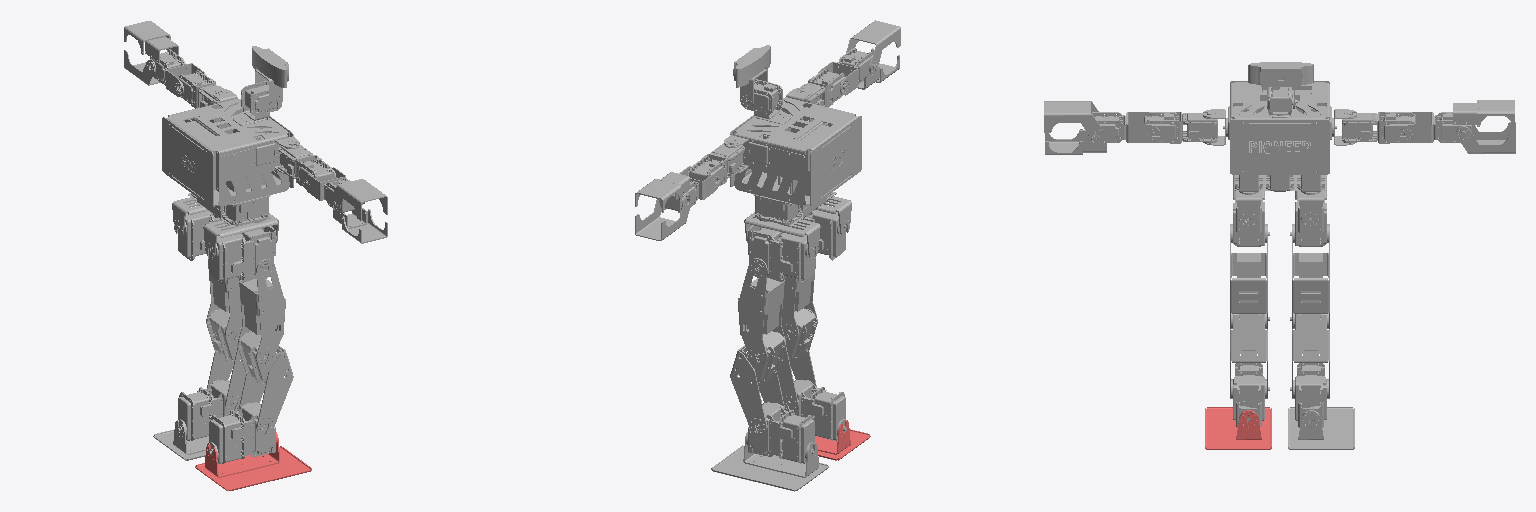
--- What the picture shows (computed from the rendered views, not written in the file) ---
3 views of the same robot in one strip: view 1: azimuth 30°, elevation 25°; view 2: azimuth 150°, elevation 25°; view 3: azimuth 270°, elevation 25° (orthographic).
Robot: pioneer3 — 24 links, 23 joints (23 revolute); root link base_link; default pose: every joint at zero.
Links seen in each view (by area): view 1: Body, RL_link3, RL_link4, RL_link6, RL_link5, RL_link2, LA_link3, LL_link4, LL_link5, RA_link3, Neck_link2, RA_link2 (+10 smaller); view 2: Body, LL_link3, LL_link4, LL_link6, LL_link5, LL_link2, RL_link4, RL_link5, LA_link3, RA_link3, Neck_link2, LA_link2 (+10 smaller); view 3: Body, LA_link3, RA_link3, RL_link6, LL_link6, RL_link3, LL_link3, RL_link4, LL_link4, RA_link2, LA_link2, RL_link5 (+10 smaller).
Link boxes in pixels (x1,y1,x2,y2): Body: [162, 98, 293, 207]; RL_link3: [238, 259, 285, 364]; RL_link4: [237, 331, 293, 434]; RL_link6: [195, 432, 311, 490]; RL_link5: [209, 402, 275, 463]; RL_link2: [209, 226, 275, 283]; LA_link3: [124, 21, 206, 96]; LL_link4: [206, 309, 245, 411]; LL_link5: [177, 380, 240, 440]; RA_link3: [303, 167, 387, 243]; Neck_link2: [252, 46, 288, 107]; RA_link2: [278, 144, 334, 187]; Body: [730, 97, 861, 206]; LL_link3: [738, 258, 785, 363]; LL_link4: [730, 331, 785, 434]; LL_link6: [711, 432, 828, 491]; LL_link5: [748, 402, 815, 463]; LL_link2: [748, 226, 815, 283]; RL_link4: [778, 308, 817, 411]; RL_link5: [783, 380, 846, 440]; LA_link3: [635, 166, 719, 213]; RA_link3: [818, 48, 899, 95]; Neck_link2: [733, 45, 770, 107]; LA_link2: [689, 143, 744, 185]; Body: [1223, 81, 1336, 174]; LA_link3: [1400, 100, 1514, 142]; RA_link3: [1045, 112, 1159, 154]; RL_link6: [1205, 407, 1271, 449]; LL_link6: [1288, 407, 1354, 449]; RL_link3: [1230, 224, 1267, 328]; LL_link3: [1292, 224, 1329, 328]; RL_link4: [1230, 313, 1269, 398]; LL_link4: [1290, 313, 1329, 398]; RA_link2: [1144, 112, 1217, 143]; LA_link2: [1342, 112, 1415, 143]; RL_link5: [1233, 363, 1269, 427].
Size in the robot's own frame: 0.1515 by 0.6817 by 0.6124 metres.
24 mesh visuals loaded from 24 distinct referenced files (24 binary STL).

URDF robot description (pioneer3):
<?xml version="1.0" encoding="utf-8"?>
<!-- This URDF was automatically created by SolidWorks to URDF Exporter! Originally created by Stephen Brawner ([email redacted]) 
     Commit Version: 1.6.0-4-g7f85cfe  Build Version: 1.6.7995.38578
     For more information, please see http://wiki.ros.org/sw_urdf_exporter -->
<robot
  name="pioneer3">
  <link
    name="base_link">
    <inertial>
      <origin
        xyz="-0.0167250968827815 2.44149145345318E-10 0.0203639204176536"
        rpy="0 0 0" />
      <mass
        value="0.240383168658405" />
      <inertia
        ixx="7.83804120751113E-05"
        ixy="-1.33677467927533E-12"
        ixz="8.81205594526933E-07"
        iyy="0.000100074084783745"
        iyz="-7.20459622056662E-10"
        izz="0.000112287656365948" />
    </inertial>
    <visual>
      <origin
        xyz="0 0 0"
        rpy="0 0 0" />
      <geometry>
        <mesh
          filename="package://pioneer3/meshes/base_link.STL" />
      </geometry>
      <material
        name="">
        <color
          rgba="0.752941176470588 0.752941176470588 0.752941176470588 1" />
      </material>
    </visual>
    <collision>
      <origin
        xyz="0 0 0"
        rpy="0 0 0" />
      <geometry>
        <mesh
          filename="package://pioneer3/meshes/base_link.STL" />
      </geometry>
    </collision>
  </link>
  <link
    name="Body">
    <inertial>
      <origin
        xyz="-0.0193898149026809 0.00222591592015722 0.0444172391413023"
        rpy="0 0 0" />
      <mass
        value="0.774724923242869" />
      <inertia
        ixx="0.000896603730400152"
        ixy="-1.88519887603303E-05"
        ixz="-7.16736744399087E-06"
        iyy="0.000619545768203177"
        iyz="-2.23556455740887E-05"
        izz="0.00107921959387707" />
    </inertial>
    <visual>
      <origin
        xyz="0 0 0"
        rpy="0 0 0" />
      <geometry>
        <mesh
          filename="package://pioneer3/meshes/Body.STL" />
      </geometry>
      <material
        name="">
        <color
          rgba="0.752941176470588 0.752941176470588 0.752941176470588 1" />
      </material>
    </visual>
    <collision>
      <origin
        xyz="0 0 0"
        rpy="0 0 0" />
      <geometry>
        <mesh
          filename="package://pioneer3/meshes/Body.STL" />
      </geometry>
    </collision>
  </link>
  <joint
    name="bodyj"
    type="revolute">
    <origin
      xyz="0 0 0.044"
      rpy="0 0 0" />
    <parent
      link="base_link" />
    <child
      link="Body" />
    <axis
      xyz="0 0 1" />
    <limit
      lower="-3.14"
      upper="3.14"
      effort="1000"
      velocity="1000" />
  </joint>
  <link
    name="RA_link1">
    <inertial>
      <origin
        xyz="-7.50000634615923E-05 0.000401188760507487 0.00834166838443349"
        rpy="0 0 0" />
      <mass
        value="0.0115476492286881" />
      <inertia
        ixx="4.12065404335022E-06"
        ixy="-1.56945908739664E-13"
        ixz="-2.3697766161428E-13"
        iyy="1.60398828094646E-06"
        iyz="1.57011245213886E-13"
        izz="4.07101891575568E-06" />
    </inertial>
    <visual>
      <origin
        xyz="0 0 0"
        rpy="0 0 0" />
      <geometry>
        <mesh
          filename="package://pioneer3/meshes/RA_link1.STL" />
      </geometry>
      <material
        name="">
        <color
          rgba="0.752941176470588 0.752941176470588 0.752941176470588 1" />
      </material>
    </visual>
    <collision>
      <origin
        xyz="0 0 0"
        rpy="0 0 0" />
      <geometry>
        <mesh
          filename="package://pioneer3/meshes/RA_link1.STL" />
      </geometry>
    </collision>
  </link>
  <joint
    name="RA_j1"
    type="revolute">
    <origin
      xyz="0.025552 -0.0798 0.065679"
      rpy="1.5708 0 0" />
    <parent
      link="Body" />
    <child
      link="RA_link1" />
    <axis
      xyz="0 0 1" />
    <limit
      lower="-3.14"
      upper="3.14"
      effort="1000"
      velocity="1000" />
  </joint>
<!-- <link name="world"/>
  <joint name="fixed" type="fixed">
  <origin xyz="0 0 1" rpy="0 0 0"/>
    <parent link="world"/>
    <child link="base_link"/>
  </joint> -->
  <link
    name="RA_link2">
    <inertial>
      <origin
        xyz="0.0415895478990663 8.9087516866166E-05 1.4087516855707E-05"
        rpy="0 0 0" />
      <mass
        value="0.0976313045710125" />
      <inertia
        ixx="1.77003872433829E-05"
        ixy="1.82744192429706E-07"
        ixz="-1.82744192428845E-07"
        iyy="2.40642398269195E-05"
        iyz="8.2844861802451E-13"
        izz="2.39715332723679E-05" />
    </inertial>
    <visual>
      <origin
        xyz="0 0 0"
        rpy="0 0 0" />
      <geometry>
        <mesh
          filename="package://pioneer3/meshes/RA_link2.STL" />
      </geometry>
      <material
        name="">
        <color
          rgba="0.752941176470588 0.752941176470588 0.752941176470588 1" />
      </material>
    </visual>
    <collision>
      <origin
        xyz="0 0 0"
        rpy="0 0 0" />
      <geometry>
        <mesh
          filename="package://pioneer3/meshes/RA_link2.STL" />
      </geometry>
    </collision>
  </link>
  <joint
    name="RA_j2"
    type="revolute">
    <origin
      xyz="0 0 0.021282"
      rpy="1.5708 -1.5708 0" />
    <parent
      link="RA_link1" />
    <child
      link="RA_link2" />
    <axis
      xyz="0 0 -1" />
    <limit
      lower="-3.14"
      upper="3.14"
      effort="1000"
      velocity="1000" />
  </joint>
  <link
    name="RA_link3">
    <inertial>
      <origin
        xyz="0.0740596286038509 0.00988456500166742 8.47100684984135E-05"
        rpy="0 0 0" />
      <mass
        value="0.0970495897686328" />
      <inertia
        ixx="2.25127869893031E-05"
        ixy="-3.71122412867642E-08"
        ixz="1.82723660580053E-07"
        iyy="3.48264767703425E-05"
        iyz="-5.6566102245087E-13"
        izz="2.2513245712724E-05" />
    </inertial>
    <visual>
      <origin
        xyz="0 0 0"
        rpy="0 0 0" />
      <geometry>
        <mesh
          filename="package://pioneer3/meshes/RA_link3.STL" />
      </geometry>
      <material
        name="">
        <color
          rgba="0.752941176470588 0.752941176470588 0.752941176470588 1" />
      </material>
    </visual>
    <collision>
      <origin
        xyz="0 0 0"
        rpy="0 0 0" />
      <geometry>
        <mesh
          filename="package://pioneer3/meshes/RA_link3.STL" />
      </geometry>
    </collision>
  </link>
  <joint
    name="RA_j3"
    type="revolute">
    <origin
      xyz="0.083008 0 0"
      rpy="1.5708 0 0" />
    <parent
      link="RA_link2" />
    <child
      link="RA_link3" />
    <axis
      xyz="0 0 -1" />
    <limit
      lower="-3.14"
      upper="3.14"
      effort="1000"
      velocity="1000" />
  </joint>
  <link
    name="RA_link4">
    <inertial>
      <origin
        xyz="0.035114468974555 -0.0230460225520937 -0.0015332532138342"
        rpy="0 0 0" />
      <mass
        value="0.0258491749290588" />
      <inertia
        ixx="1.04022877238367E-05"
        ixy="1.9672117898398E-06"
        ixz="-8.44967793224537E-13"
        iyy="2.21552310040836E-05"
        iyz="2.2182555808158E-12"
        izz="1.66621056690838E-05" />
    </inertial>
    <visual>
      <origin
        xyz="0 0 0"
        rpy="0 0 0" />
      <geometry>
        <mesh
          filename="package://pioneer3/meshes/RA_link4.STL" />
      </geometry>
      <material
        name="">
        <color
          rgba="0.752941176470588 0.752941176470588 0.752941176470588 1" />
      </material>
    </visual>
    <collision>
      <origin
        xyz="0 0 0"
        rpy="0 0 0" />
      <geometry>
        <mesh
          filename="package://pioneer3/meshes/RA_link4.STL" />
      </geometry>
    </collision>
  </link>
  <joint
    name="RA_j4"
    type="revolute">
    <origin
      xyz="0.081772 0 0"
      rpy="0 0 0" />
    <parent
      link="RA_link3" />
    <child
      link="RA_link4" />
    <axis
      xyz="0 0 1" />
    <limit
      lower="-3.14"
      upper="3.14"
      effort="1000"
      velocity="1000" />
  </joint>
  <link
    name="LA_link1">
    <inertial>
      <origin
        xyz="-7.49999366664936E-05 -0.000401188760507723 0.00834166838443265"
        rpy="0 0 0" />
      <mass
        value="0.011547649228688" />
      <inertia
        ixx="4.12065404335021E-06"
        ixy="-1.56945911592939E-13"
        ixz="2.36977660319132E-13"
        iyy="1.60398828094644E-06"
        iyz="-1.57011424829553E-13"
        izz="4.07101891575567E-06" />
    </inertial>
    <visual>
      <origin
        xyz="0 0 0"
        rpy="0 0 0" />
      <geometry>
        <mesh
          filename="package://pioneer3/meshes/LA_link1.STL" />
      </geometry>
      <material
        name="">
        <color
          rgba="0.752941176470588 0.752941176470588 0.752941176470588 1" />
      </material>
    </visual>
    <collision>
      <origin
        xyz="0 0 0"
        rpy="0 0 0" />
      <geometry>
        <mesh
          filename="package://pioneer3/meshes/LA_link1.STL" />
      </geometry>
    </collision>
  </link>
  <joint
    name="LA_j1"
    type="revolute">
    <origin
      xyz="0.025552 0.0798 0.065679"
      rpy="-1.5708 0 0" />
    <parent
      link="Body" />
    <child
      link="LA_link1" />
    <axis
      xyz="0 0 1" />
    <limit
      lower="-3.14"
      upper="3.14"
      effort="1000"
      velocity="1000" />
  </joint>
  <link
    name="LA_link2">
    <inertial>
      <origin
        xyz="-8.90881371993224E-05 0.0415895478998911 -1.4088137134563E-05"
        rpy="0 0 0" />
      <mass
        value="0.0976313045710133" />
      <inertia
        ixx="2.40642398269196E-05"
        ixy="-1.82745975027851E-07"
        ixz="-8.28448794189772E-13"
        iyy="1.7700387243383E-05"
        iyz="1.82745975027846E-07"
        izz="2.3971533272368E-05" />
    </inertial>
    <visual>
      <origin
        xyz="0 0 0"
        rpy="0 0 0" />
      <geometry>
        <mesh
          filename="package://pioneer3/meshes/LA_link2.STL" />
      </geometry>
      <material
        name="">
        <color
          rgba="0.752941176470588 0.752941176470588 0.752941176470588 1" />
      </material>
    </visual>
    <collision>
      <origin
        xyz="0 0 0"
        rpy="0 0 0" />
      <geometry>
        <mesh
          filename="package://pioneer3/meshes/LA_link2.STL" />
      </geometry>
    </collision>
  </link>
  <joint
    name="LA_j2"
    type="revolute">
    <origin
      xyz="0 0 0.021282"
      rpy="1.5708 0 0" />
    <parent
      link="LA_link1" />
    <child
      link="LA_link2" />
    <axis
      xyz="0 0 1" />
    <limit
      lower="-3.14"
      upper="3.14"
      effort="1000"
      velocity="1000" />
  </joint>
  <link
    name="LA_link3">
    <inertial>
      <origin
        xyz="0.0740124434762964 0.00995100438307307 -2.10717138973901E-05"
        rpy="0 0 0" />
      <mass
        value="0.0964594668522865" />
      <inertia
        ixx="2.24913417456753E-05"
        ixy="-3.71046689039174E-08"
        ixz="-1.82766501654953E-07"
        iyy="3.48050314951755E-05"
        iyz="-2.66624535931702E-13"
        izz="2.24708995283987E-05" />
    </inertial>
    <visual>
      <origin
        xyz="0 0 0"
        rpy="0 0 0" />
      <geometry>
        <mesh
          filename="package://pioneer3/meshes/LA_link3.STL" />
      </geometry>
      <material
        name="">
        <color
          rgba="0.752941176470588 0.752941176470588 0.752941176470588 1" />
      </material>
    </visual>
    <collision>
      <origin
        xyz="0 0 0"
        rpy="0 0 0" />
      <geometry>
        <mesh
          filename="package://pioneer3/meshes/LA_link3.STL" />
      </geometry>
    </collision>
  </link>
  <joint
    name="LA_j3"
    type="revolute">
    <origin
      xyz="0 0.083008 0"
      rpy="1.5708 0 1.5708" />
    <parent
      link="LA_link2" />
    <child
      link="LA_link3" />
    <axis
      xyz="0 0 1" />
    <limit
      lower="-3.14"
      upper="3.14"
      effort="1000"
      velocity="1000" />
  </joint>
  <link
    name="LA_link4">
    <inertial>
      <origin
        xyz="0.034330717191581 -0.0225316372474616 0.000152669856721209"
        rpy="0 0 0" />
      <mass
        value="0.0264392978454057" />
      <inertia
        ixx="1.04237331647152E-05"
        ixy="1.96721170536246E-06"
        ixz="-6.1192989763702E-13"
        iyy="2.21766760819998E-05"
        iyz="1.85273220406346E-12"
        izz="1.67044518534091E-05" />
    </inertial>
    <visual>
      <origin
        xyz="0 0 0"
        rpy="0 0 0" />
      <geometry>
        <mesh
          filename="package://pioneer3/meshes/LA_link4.STL" />
      </geometry>
      <material
        name="">
        <color
          rgba="0.752941176470588 0.752941176470588 0.752941176470588 1" />
      </material>
    </visual>
    <collision>
      <origin
        xyz="0 0 0"
        rpy="0 0 0" />
      <geometry>
        <mesh
          filename="package://pioneer3/meshes/LA_link4.STL" />
      </geometry>
    </collision>
  </link>
  <joint
    name="LA_j4"
    type="revolute">
    <origin
      xyz="0.081772 0 0"
      rpy="0 0 0" />
    <parent
      link="LA_link3" />
    <child
      link="LA_link4" />
    <axis
      xyz="0 0 1" />
    <limit
      lower="-3.14"
      upper="3.14"
      effort="1000"
      velocity="1000" />
  </joint>
  <link
    name="Neck_link1">
    <inertial>
      <origin
        xyz="0.00881675534498029 0.000424008175824692 0.0228543084913687"
        rpy="0 0 0" />
      <mass
        value="0.0489221422171348" />
      <inertia
        ixx="8.66202106821969E-06"
        ixy="-3.93419641724233E-07"
        ixz="-3.92119436105372E-08"
        iyy="1.07474815292861E-05"
        iyz="-8.93194087043012E-09"
        izz="1.36374535657454E-05" />
    </inertial>
    <visual>
      <origin
        xyz="0 0 0"
        rpy="0 0 0" />
      <geometry>
        <mesh
          filename="package://pioneer3/meshes/Neck_link1.STL" />
      </geometry>
      <material
        name="">
        <color
          rgba="0.752941176470588 0.752941176470588 0.752941176470588 1" />
      </material>
    </visual>
    <collision>
      <origin
        xyz="0 0 0"
        rpy="0 0 0" />
      <geometry>
        <mesh
          filename="package://pioneer3/meshes/Neck_link1.STL" />
      </geometry>
    </collision>
  </link>
  <joint
    name="Neckj1"
    type="revolute">
    <origin
      xyz="0.026477 3E-05 0.092"
      rpy="0 0 0" />
    <parent
      link="Body" />
    <child
      link="Neck_link1" />
    <axis
      xyz="0 0 1" />
    <limit
      lower="-3.14"
      upper="3.14"
      effort="1000"
      velocity="1000" />
  </joint>
  <link
    name="Neck_link2">
    <inertial>
      <origin
        xyz="0.00324207240321625 0.0421870933743638 -0.00127094299226047"
        rpy="0 0 0" />
      <mass
        value="0.0562977374530262" />
      <inertia
        ixx="3.28578623414443E-05"
        ixy="1.70000019824115E-07"
        ixz="2.39350621572202E-09"
        iyy="3.04793083290288E-05"
        iyz="-4.02027223183294E-10"
        izz="7.04385739529729E-06" />
    </inertial>
    <visual>
      <origin
        xyz="0 0 0"
        rpy="0 0 0" />
      <geometry>
        <mesh
          filename="package://pioneer3/meshes/Neck_link2.STL" />
      </geometry>
      <material
        name="">
        <color
          rgba="0.752941176470588 0.752941176470588 0.752941176470588 1" />
      </material>
    </visual>
    <collision>
      <origin
        xyz="0 0 0"
        rpy="0 0 0" />
      <geometry>
        <mesh
          filename="package://pioneer3/meshes/Neck_link2.STL" />
      </geometry>
    </collision>
  </link>
  <joint
    name="Neck_j2"
    type="revolute">
    <origin
      xyz="0.020822 0.00019107 0.02512"
      rpy="1.5708 0 0" />
    <parent
      link="Neck_link1" />
    <child
      link="Neck_link2" />
    <axis
      xyz="0 0 -1" />
    <limit
      lower="-3.14"
      upper="3.14"
      effort="1000"
      velocity="1000" />
  </joint>
  <link
    name="RL_link1">
    <inertial>
      <origin
        xyz="6.42169055084518E-09 -0.0219307811560503 -0.0108112966258257"
        rpy="0 0 0" />
      <mass
        value="0.0361632382405996" />
      <inertia
        ixx="5.41116951752787E-05"
        ixy="-3.12815448631409E-12"
        ixz="5.78182245260303E-14"
        iyy="9.66378632488254E-06"
        iyz="-1.97545977189402E-07"
        izz="5.66457480929963E-05" />
    </inertial>
    <visual>
      <origin
        xyz="0 0 0"
        rpy="0 0 0" />
      <geometry>
        <mesh
          filename="package://pioneer3/meshes/RL_link1.STL" />
      </geometry>
      <material
        name="">
        <color
          rgba="0.752941176470588 0.752941176470588 0.752941176470588 1" />
      </material>
    </visual>
    <collision>
      <origin
        xyz="0 0 0"
        rpy="0 0 0" />
      <geometry>
        <mesh
          filename="package://pioneer3/meshes/RL_link1.STL" />
      </geometry>
    </collision>
  </link>
  <joint
    name="RL_j1"
    type="revolute">
    <origin
      xyz="0 -0.045 0"
      rpy="0 0 -1.5708" />
    <parent
      link="base_link" />
    <child
      link="RL_link1" />
    <axis
      xyz="0 0 -1" />
    <limit
      lower="-3.14"
      upper="3.14"
      effort="1000"
      velocity="1000" />
  </joint>
  <link
    name="RL_link2">
    <inertial>
      <origin
        xyz="-0.000155224653073202 0.0175532012676426 -0.0221676492467084"
        rpy="0 0 0" />
      <mass
        value="0.199136941508231" />
      <inertia
        ixx="7.94219530743605E-05"
        ixy="1.06395420715344E-06"
        ixz="-4.6225902127694E-09"
        iyy="4.77173071514332E-05"
        iyz="-1.04491774708346E-06"
        izz="8.02433026493238E-05" />
    </inertial>
    <visual>
      <origin
        xyz="0 0 0"
        rpy="0 0 0" />
      <geometry>
        <mesh
          filename="package://pioneer3/meshes/RL_link2.STL" />
      </geometry>
      <material
        name="">
        <color
          rgba="0.752941176470588 0.752941176470588 0.752941176470588 1" />
      </material>
    </visual>
    <collision>
      <origin
        xyz="0 0 0"
        rpy="0 0 0" />
      <geometry>
        <mesh
          filename="package://pioneer3/meshes/RL_link2.STL" />
      </geometry>
    </collision>
  </link>
  <joint
    name="RL_j2"
    type="revolute">
    <origin
      xyz="0 0 -0.03561"
      rpy="-1.5708 0 0" />
    <parent
      link="RL_link1" />
    <child
      link="RL_link2" />
    <axis
      xyz="0 0 1" />
    <limit
      lower="-3.14"
      upper="3.14"
      effort="1000"
      velocity="1000" />
  </joint>
  <link
    name="RL_link3">
    <inertial>
      <origin
        xyz="0.070697844859153 -0.00690531242399754 -0.000615163409506594"
        rpy="0 0 0" />
      <mass
        value="0.109764268638753" />
      <inertia
        ixx="3.42597906144572E-05"
        ixy="3.81765944865847E-06"
        ixz="-3.78424411652146E-16"
        iyy="8.41269076176964E-05"
        iyz="-8.64239095358449E-16"
        izz="7.54085071592888E-05" />
    </inertial>
    <visual>
      <origin
        xyz="0 0 0"
        rpy="0 0 0" />
      <geometry>
        <mesh
          filename="package://pioneer3/meshes/RL_link3.STL" />
      </geometry>
      <material
        name="">
        <color
          rgba="0.752941176470588 0.752941176470588 0.752941176470588 1" />
      </material>
    </visual>
    <collision>
      <origin
        xyz="0 0 0"
        rpy="0 0 0" />
      <geometry>
        <mesh
          filename="package://pioneer3/meshes/RL_link3.STL" />
      </geometry>
    </collision>
  </link>
  <joint
    name="RL_j3"
    type="revolute">
    <origin
      xyz="0 0.0361 0"
      rpy="-1.5708 0 1.5708" />
    <parent
      link="RL_link2" />
    <child
      link="RL_link3" />
    <axis
      xyz="0 0 -1" />
    <limit
      lower="-3.14"
      upper="3.14"
      effort="1000"
      velocity="1000" />
  </joint>
  <link
    name="RL_link4">
    <inertial>
      <origin
        xyz="0.0305994031020729 -0.0120235926576757 4.11080572858338E-05"
        rpy="0 0 0" />
      <mass
        value="0.148800494539436" />
      <inertia
        ixx="7.27018871523785E-05"
        ixy="-1.14360945396729E-05"
        ixz="1.01882441759678E-06"
        iyy="0.000125674269168084"
        iyz="-3.00739117668398E-07"
        izz="9.73247119796599E-05" />
    </inertial>
    <visual>
      <origin
        xyz="0 0 0"
        rpy="0 0 0" />
      <geometry>
        <mesh
          filename="package://pioneer3/meshes/RL_link4.STL" />
      </geometry>
      <material
        name="">
        <color
          rgba="0.752941176470588 0.752941176470588 0.752941176470588 1" />
      </material>
    </visual>
    <collision>
      <origin
        xyz="0 0 0"
        rpy="0 0 0" />
      <geometry>
        <mesh
          filename="package://pioneer3/meshes/RL_link4.STL" />
      </geometry>
    </collision>
  </link>
  <joint
    name="RL_j4"
    type="revolute">
    <origin
      xyz="0.13629 0 0"
      rpy="0 0 0" />
    <parent
      link="RL_link3" />
    <child
      link="RL_link4" />
    <axis
      xyz="0 0 -1" />
    <limit
      lower="-3.14"
      upper="3.14"
      effort="1000"
      velocity="1000" />
  </joint>
  <link
    name="RL_link5">
    <inertial>
      <origin
        xyz="0.0184053379143802 0.0221848218746019 0.000158385663099121"
        rpy="0 0 0" />
      <mass
        value="0.199136941508231" />
      <inertia
        ixx="4.77173071514333E-05"
        ixy="-1.04163236911465E-06"
        ixz="1.06064116631225E-06"
        iyy="8.02433026493259E-05"
        iyz="4.62259004995958E-09"
        izz="7.94219530743587E-05" />
    </inertial>
    <visual>
      <origin
        xyz="0 0 0"
        rpy="0 0 0" />
      <geometry>
        <mesh
          filename="package://pioneer3/meshes/RL_link5.STL" />
      </geometry>
      <material
        name="">
        <color
          rgba="0.752941176470588 0.752941176470588 0.752941176470588 1" />
      </material>
    </visual>
    <collision>
      <origin
        xyz="0 0 0"
        rpy="0 0 0" />
      <geometry>
        <mesh
          filename="package://pioneer3/meshes/RL_link5.STL" />
      </geometry>
    </collision>
  </link>
  <joint
    name="RL_j5"
    type="revolute">
    <origin
      xyz="0.11176 0 0"
      rpy="0 0 0" />
    <parent
      link="RL_link4" />
    <child
      link="RL_link5" />
    <axis
      xyz="0 0 -1" />
    <limit
      lower="-3.14"
      upper="3.14"
      effort="1000"
      velocity="1000" />
  </joint>
  <link
    name="RL_link6">
    <inertial>
      <origin
        xyz="0.031214832724338 -0.0103874792312922 -0.0155727113601991"
        rpy="0 0 0" />
      <mass
        value="0.110140418970307" />
      <inertia
        ixx="0.000244915284087819"
        ixy="2.39139813894224E-10"
        ixz="-1.55440879126306E-10"
        iyy="0.000183609452644583"
        iyz="-2.24895809571109E-08"
        izz="6.94921441530125E-05" />
    </inertial>
    <visual>
      <origin
        xyz="0 0 0"
        rpy="0 0 0" />
      <geometry>
        <mesh
          filename="package://pioneer3/meshes/RL_link6.STL" />
      </geometry>
      <material
        name="">
        <color
          rgba="1 0.501960784313725 0.501960784313725 1" />
      </material>
    </visual>
    <collision>
      <origin
        xyz="0 0 0"
        rpy="0 0 0" />
      <geometry>
        <mesh
          filename="package://pioneer3/meshes/RL_link6.STL" />
      </geometry>
    </collision>
  </link>
  <joint
    name="RL_j6"
    type="revolute">
    <origin
      xyz="0.0361 0 0"
      rpy="1.5708 0 0" />
    <parent
      link="RL_link5" />
    <child
      link="RL_link6" />
    <axis
      xyz="0 0 1" />
    <limit
      lower="-3.14"
      upper="3.14"
      effort="1000"
      velocity="1000" />
  </joint>
  <link
    name="LL_link1">
    <inertial>
      <origin
        xyz="6.42169120657066E-09 -0.0219307811560507 -0.010811296625817"
        rpy="0 0 0" />
      <mass
        value="0.0361632382405995" />
      <inertia
        ixx="5.41116951752787E-05"
        ixy="-3.12815446505222E-12"
        ixz="5.78182546738962E-14"
        iyy="9.66378632488246E-06"
        iyz="-1.97545977189469E-07"
        izz="5.66457480929964E-05" />
    </inertial>
    <visual>
      <origin
        xyz="0 0 0"
        rpy="0 0 0" />
      <geometry>
        <mesh
          filename="package://pioneer3/meshes/LL_link1.STL" />
      </geometry>
      <material
        name="">
        <color
          rgba="0.752941176470588 0.752941176470588 0.752941176470588 1" />
      </material>
    </visual>
    <collision>
      <origin
        xyz="0 0 0"
        rpy="0 0 0" />
      <geometry>
        <mesh
          filename="package://pioneer3/meshes/LL_link1.STL" />
      </geometry>
    </collision>
  </link>
  <joint
    name="LL_j1"
    type="revolute">
    <origin
      xyz="0 0.045 0"
      rpy="0 0 -1.5708" />
    <parent
      link="base_link" />
    <child
      link="LL_link1" />
    <axis
      xyz="0 0 -1" />
    <limit
      lower="-3.14"
      upper="3.14"
      effort="1000"
      velocity="1000" />
  </joint>
  <link
    name="LL_link2">
    <inertial>
      <origin
        xyz="0.000145296845586826 0.0175227430535847 -0.0221708284324479"
        rpy="0 0 0" />
      <mass
        value="0.199136941508231" />
      <inertia
        ixx="7.94219530743605E-05"
        ixy="-1.0606411661061E-06"
        ixz="-4.62259021280249E-09"
        iyy="4.77173071514332E-05"
        iyz="-1.04163236932478E-06"
        izz="8.02433026493239E-05" />
    </inertial>
    <visual>
      <origin
        xyz="0 0 0"
        rpy="0 0 0" />
      <geometry>
        <mesh
          filename="package://pioneer3/meshes/LL_link2.STL" />
      </geometry>
      <material
        name="">
        <color
          rgba="0.752941176470588 0.752941176470588 0.752941176470588 1" />
      </material>
    </visual>
    <collision>
      <origin
        xyz="0 0 0"
        rpy="0 0 0" />
      <geometry>
        <mesh
          filename="package://pioneer3/meshes/LL_link2.STL" />
      </geometry>
    </collision>
  </link>
  <joint
    name="LL_j2"
    type="revolute">
    <origin
      xyz="9.9992E-05 0 -0.03564"
      rpy="-1.5708 0 0" />
    <parent
      link="LL_link1" />
    <child
      link="LL_link2" />
    <axis
      xyz="0 0 1" />
    <limit
      lower="-3.14"
      upper="3.14"
      effort="1000"
      velocity="1000" />
  </joint>
  <link
    name="LL_link3">
    <inertial>
      <origin
        xyz="0.0706970092185898 -0.00673818991314212 -0.00166623947296286"
        rpy="0 0 0" />
      <mass
        value="0.109764268638753" />
      <inertia
        ixx="3.42607147581954E-05"
        ixy="3.61593091174712E-06"
        ixz="1.24324206704757E-06"
        iyy="8.32043955820017E-05"
        iyz="2.68040974058395E-06"
        izz="7.63300950512455E-05" />
    </inertial>
    <visual>
      <origin
        xyz="0 0 0"
        rpy="0 0 0" />
      <geometry>
        <mesh
          filename="package://pioneer3/meshes/LL_link3.STL" />
      </geometry>
      <material
        name="">
        <color
          rgba="0.752941176470588 0.752941176470588 0.752941176470588 1" />
      </material>
    </visual>
    <collision>
      <origin
        xyz="0 0 0"
        rpy="0 0 0" />
      <geometry>
        <mesh
          filename="package://pioneer3/meshes/LL_link3.STL" />
      </geometry>
    </collision>
  </link>
  <joint
    name="LL_j3"
    type="revolute">
    <origin
      xyz="-9.9992E-05 0.03607 0"
      rpy="-1.902 0 1.5708" />
    <parent
      link="LL_link2" />
    <child
      link="LL_link3" />
    <axis
      xyz="0 -0.32514 0.94567" />
    <limit
      lower="-3.14"
      upper="3.14"
      effort="1000"
      velocity="1000" />
  </joint>
  <link
    name="LL_link4">
    <inertial>
      <origin
        xyz="0.0305967429888858 -0.0120477942212374 -4.11206203126957E-05"
        rpy="0 0 0" />
      <mass
        value="0.148800494542192" />
      <inertia
        ixx="7.26973250921589E-05"
        ixy="-1.1432438303796E-05"
        ixz="-1.0175105142074E-06"
        iyy="0.000125678831232491"
        iyz="3.05267416246822E-07"
        izz="9.73247119802278E-05" />
    </inertial>
    <visual>
      <origin
        xyz="0 0 0"
        rpy="0 0 0" />
      <geometry>
        <mesh
          filename="package://pioneer3/meshes/LL_link4.STL" />
      </geometry>
      <material
        name="">
        <color
          rgba="0.752941176470588 0.752941176470588 0.752941176470588 1" />
      </material>
    </visual>
    <collision>
      <origin
        xyz="0 0 0"
        rpy="0 0 0" />
      <geometry>
        <mesh
          filename="package://pioneer3/meshes/LL_link4.STL" />
      </geometry>
    </collision>
  </link>
  <joint
    name="LL_j4"
    type="revolute">
    <origin
      xyz="0.13629 0 0"
      rpy="0.33116 0 0" />
    <parent
      link="LL_link3" />
    <child
      link="LL_link4" />
    <axis
      xyz="0 0 1" />
    <limit
      lower="-3.14"
      upper="3.14"
      effort="1000"
      velocity="1000" />
  </joint>
  <link
    name="LL_link5">
    <inertial>
      <origin
        xyz="0.0184863647929301 0.0221676755881108 -0.000242135841645133"
        rpy="0 0 0" />
      <mass
        value="0.199136941508231" />
      <inertia
        ixx="4.77173071514332E-05"
        ixy="-1.04491774716455E-06"
        ixz="-1.06395420707341E-06"
        iyy="8.02433026493246E-05"
        iyz="4.62259014978728E-09"
        izz="7.94219530743597E-05" />
    </inertial>
    <visual>
      <origin
        xyz="0 0 0"
        rpy="0 0 0" />
      <geometry>
        <mesh
          filename="package://pioneer3/meshes/LL_link5.STL" />
      </geometry>
      <material
        name="">
        <color
          rgba="0.752941176470588 0.752941176470588 0.752941176470588 1" />
      </material>
    </visual>
    <collision>
      <origin
        xyz="0 0 0"
        rpy="0 0 0" />
      <geometry>
        <mesh
          filename="package://pioneer3/meshes/LL_link5.STL" />
      </geometry>
    </collision>
  </link>
  <joint
    name="LL_j5"
    type="revolute">
    <origin
      xyz="0.11176 0 0"
      rpy="0 0 0" />
    <parent
      link="LL_link4" />
    <child
      link="LL_link5" />
    <axis
      xyz="0 0 1" />
    <limit
      lower="-3.14"
      upper="3.14"
      effort="1000"
      velocity="1000" />
  </joint>
  <link
    name="LL_link6">
    <inertial>
      <origin
        xyz="0.0312148327243379 0.0103874633820813 -0.015572737702614"
        rpy="0 0 0" />
      <mass
        value="0.110140418970306" />
      <inertia
        ixx="0.000244915284087817"
        ixy="-2.39139813948172E-10"
        ixz="-1.55440879076274E-10"
        iyy="0.000183609452644586"
        iyz="2.24835149234858E-08"
        izz="6.94921441530078E-05" />
    </inertial>
    <visual>
      <origin
        xyz="0 0 0"
        rpy="0 0 0" />
      <geometry>
        <mesh
          filename="package://pioneer3/meshes/LL_link6.STL" />
      </geometry>
      <material
        name="">
        <color
          rgba="0.752941176470588 0.752941176470588 0.752941176470588 1" />
      </material>
    </visual>
    <collision>
      <origin
        xyz="0 0 0"
        rpy="0 0 0" />
      <geometry>
        <mesh
          filename="package://pioneer3/meshes/LL_link6.STL" />
      </geometry>
    </collision>
  </link>
  <joint
    name="LL_j6"
    type="revolute">
    <origin
      xyz="0.0361 0 0"
      rpy="1.5708 0 0" />
    <parent
      link="LL_link5" />
    <child
      link="LL_link6" />
    <axis
      xyz="0 0 1" />
    <limit
      lower="-3.14"
      upper="3.14"
      effort="1000"
      velocity="1000" />
  </joint>
</robot>
